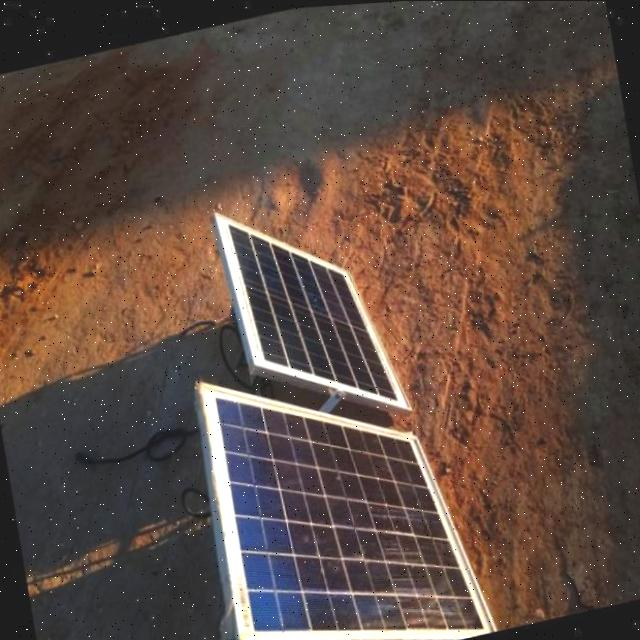Normal Solar Panel: (197, 323, 499, 640), (215, 172, 412, 442)
